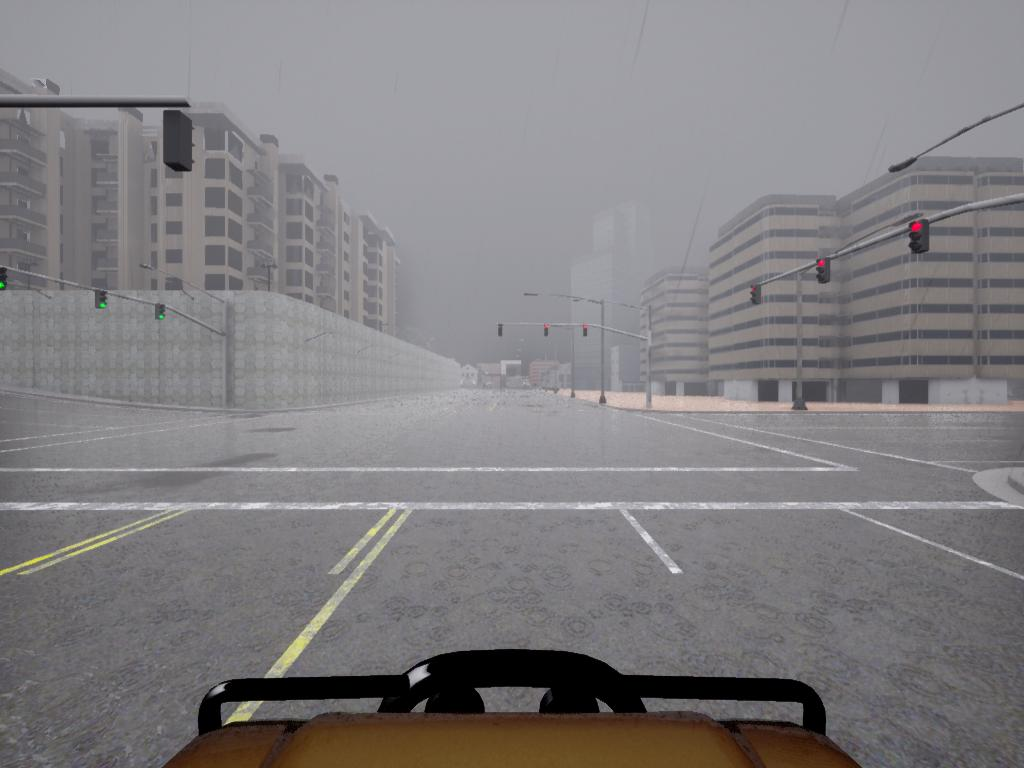traffic_light: (162, 114, 199, 178), (911, 221, 933, 257), (749, 282, 763, 310), (817, 259, 830, 285), (3, 267, 15, 290), (97, 290, 110, 311), (1, 268, 9, 292), (156, 308, 167, 324), (583, 323, 590, 341), (498, 323, 504, 339), (544, 326, 550, 336)
